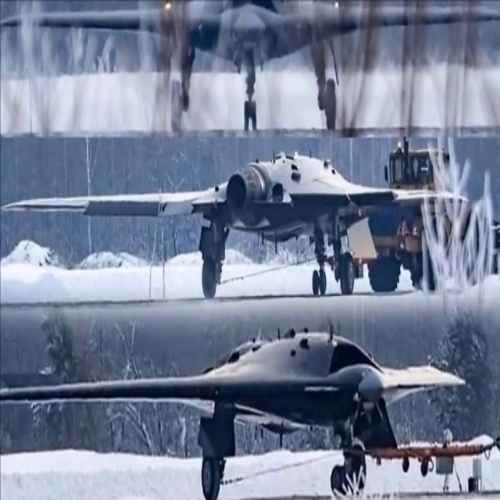uav938: (1, 326, 465, 496), (1, 150, 456, 300), (4, 1, 494, 129)
